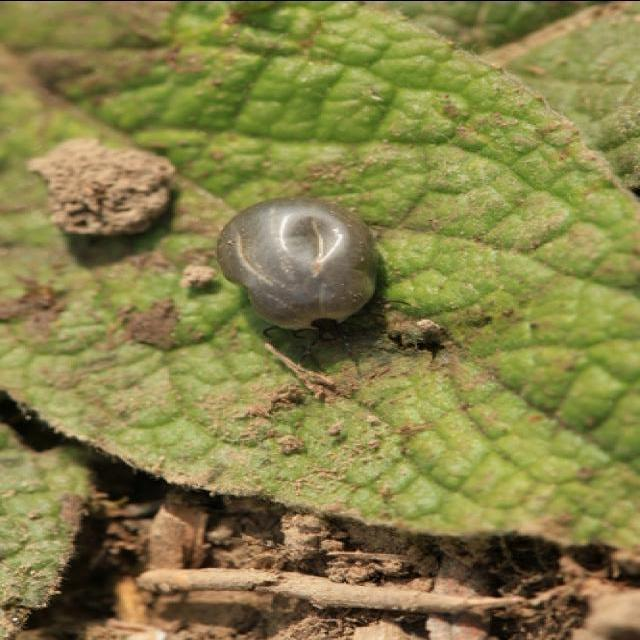Ixodes Ricinus-F-Fed: (217, 192, 415, 348)
